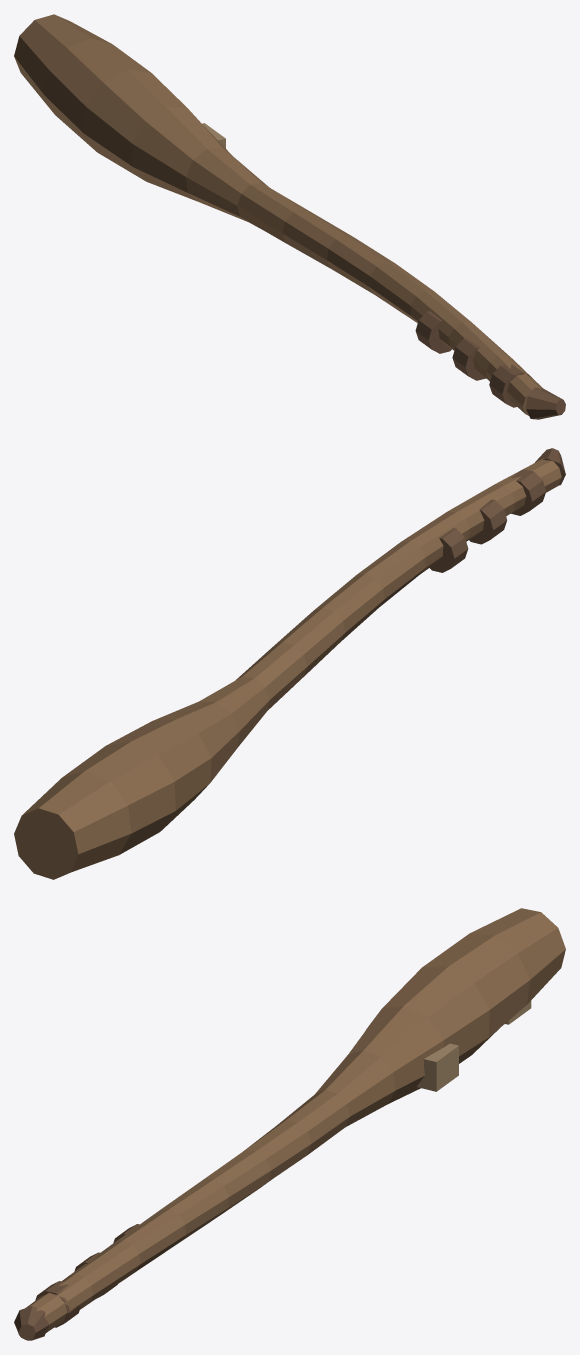
Rendered from SM_WoodClub.glb.
3 renders of one model, top to bottom at view 1: azimuth 30°, elevation 25°; view 2: azimuth 150°, elevation 25°; view 3: azimuth 330°, elevation 25°, orthographic. The views are drawn at different scales.
Visible parts, largest first — view 1: SM_WoodClub; view 2: SM_WoodClub; view 3: SM_WoodClub.
Boxes of the visible parts, left/top/right/bottom form: SM_WoodClub: left=14, top=14, right=565, bottom=419; SM_WoodClub: left=14, top=448, right=565, bottom=879; SM_WoodClub: left=14, top=908, right=565, bottom=1340.
Bounding box in the file's own units: 0.1216 × 0.1186 × 1.22.
